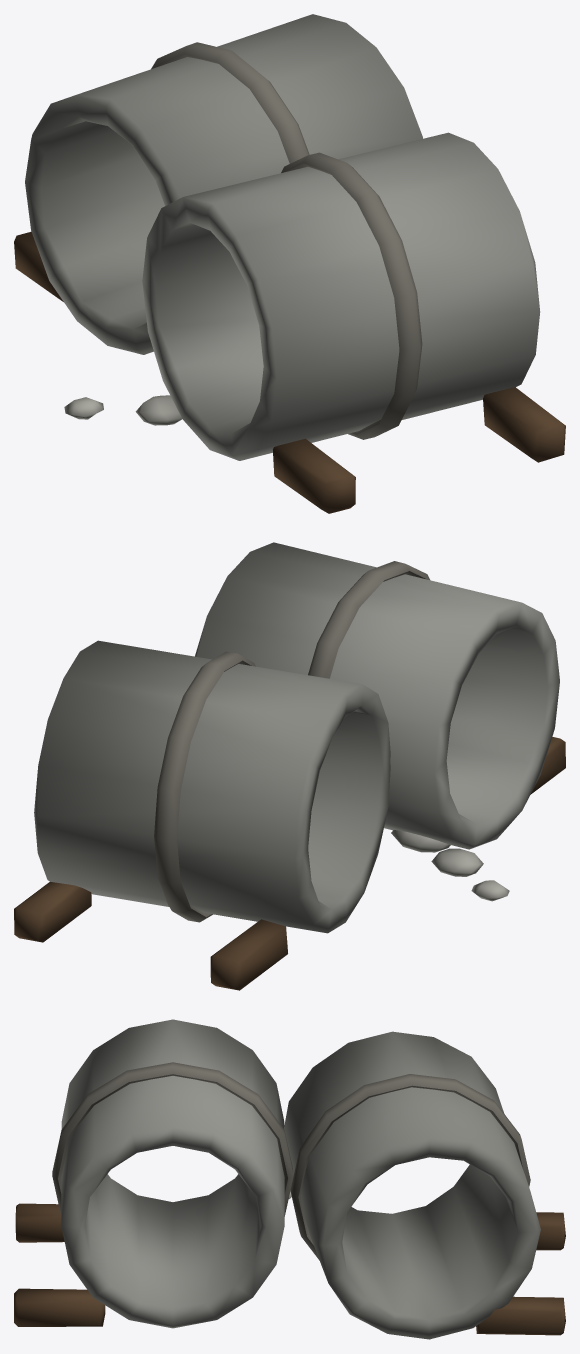
The model's file is culvert_pipe_a_lod1.glb.
3 renders of one model, top to bottom at view 1: azimuth 30°, elevation 25°; view 2: azimuth 150°, elevation 25°; view 3: azimuth 270°, elevation 25°, orthographic. The views are drawn at different scales.
Visible parts, largest first — view 1: Surface.001; view 2: Surface.001; view 3: Surface.001.
Part boxes in pixels (x1,y1,x2,y2): Surface.001: (14, 14, 565, 513); Surface.001: (14, 542, 565, 990); Surface.001: (14, 1019, 565, 1339).
Size of the model in its own units: 2.03 by 1.32 by 3.02.
